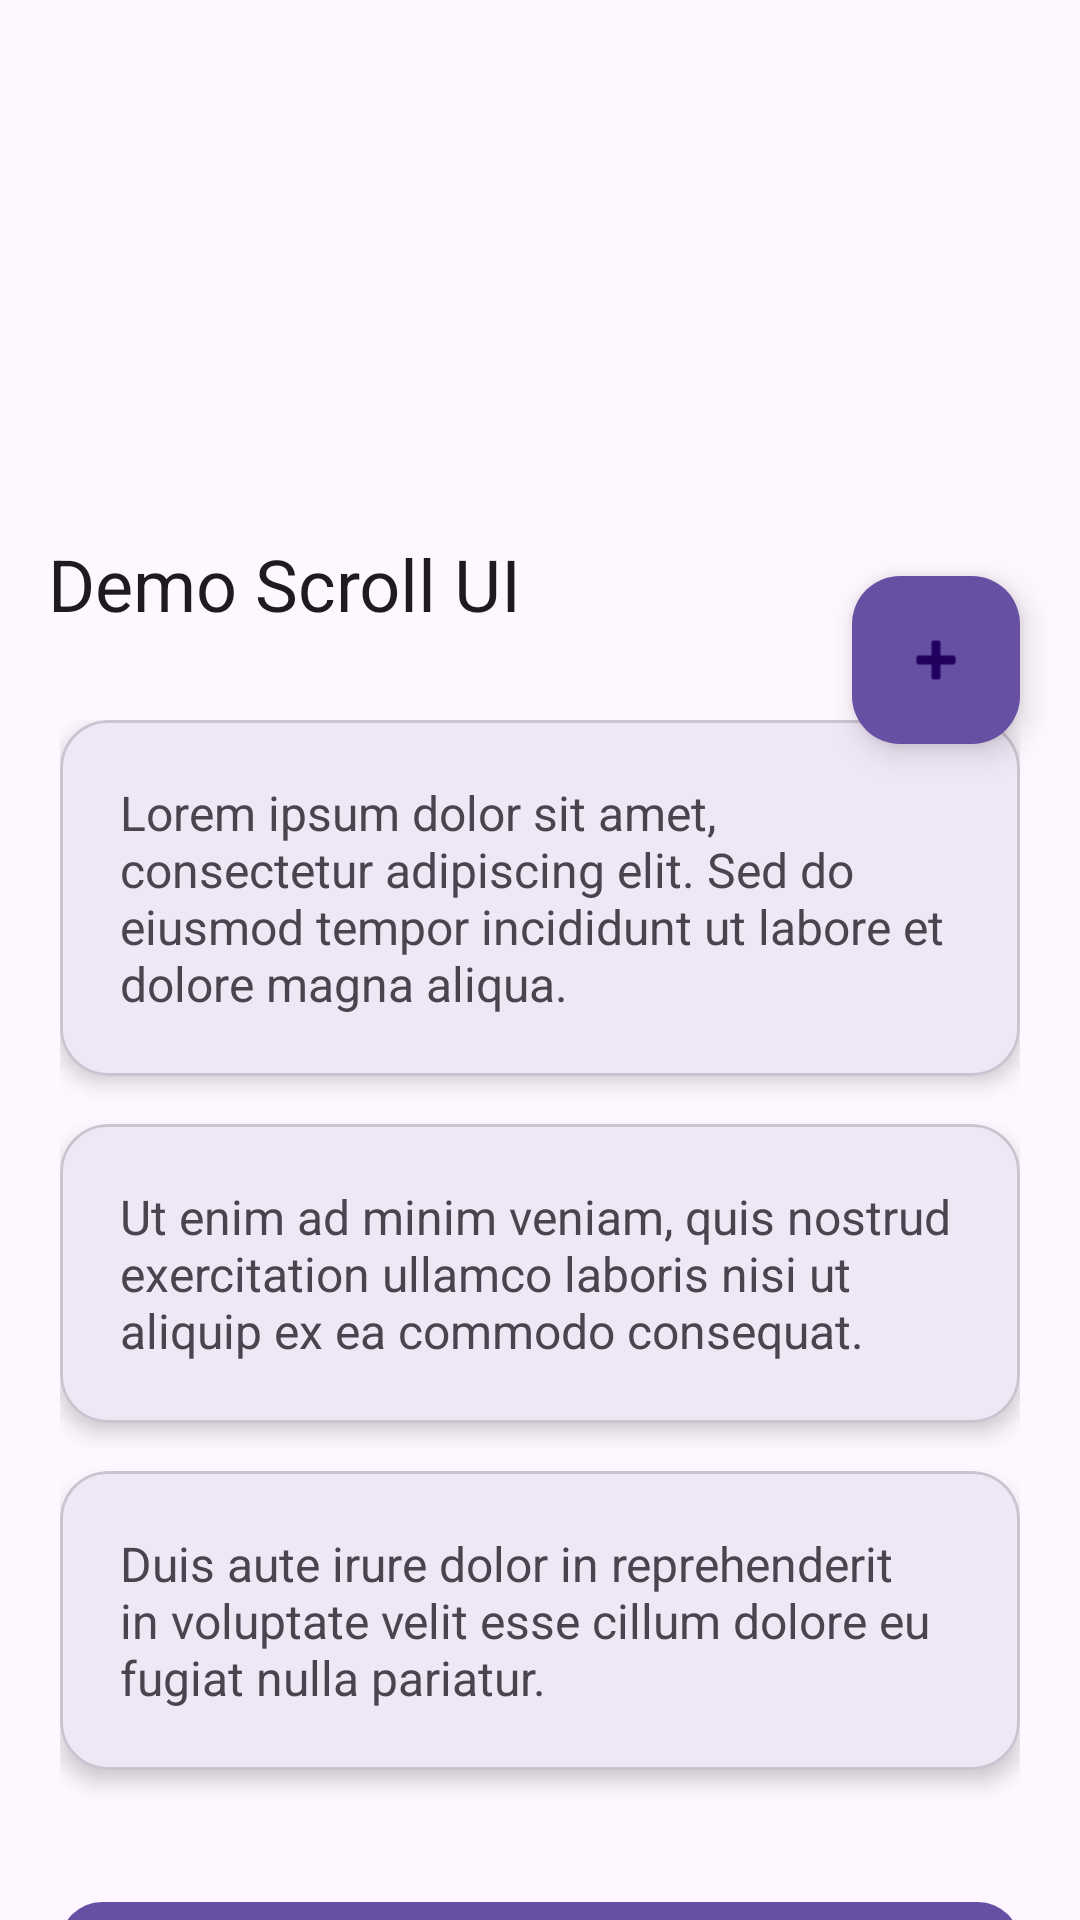

Screen size 1080 x 1920. Icon name, then its center in pixels as point (x, y):
add: point (936, 660)
